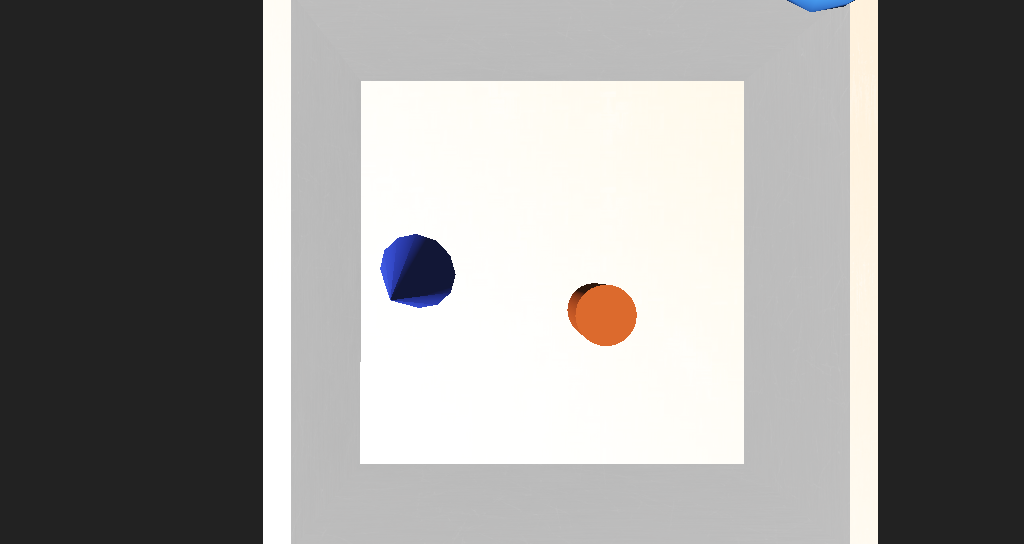cone: (522, 274, 569, 308)
cylinder: (330, 241, 438, 313)
sphere: (643, 79, 731, 141)
